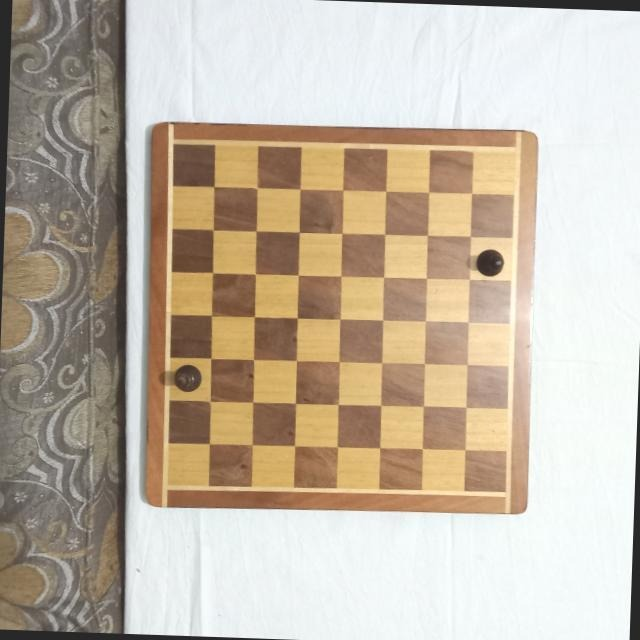black-pawn: (169, 362, 202, 393), (472, 248, 504, 278)
